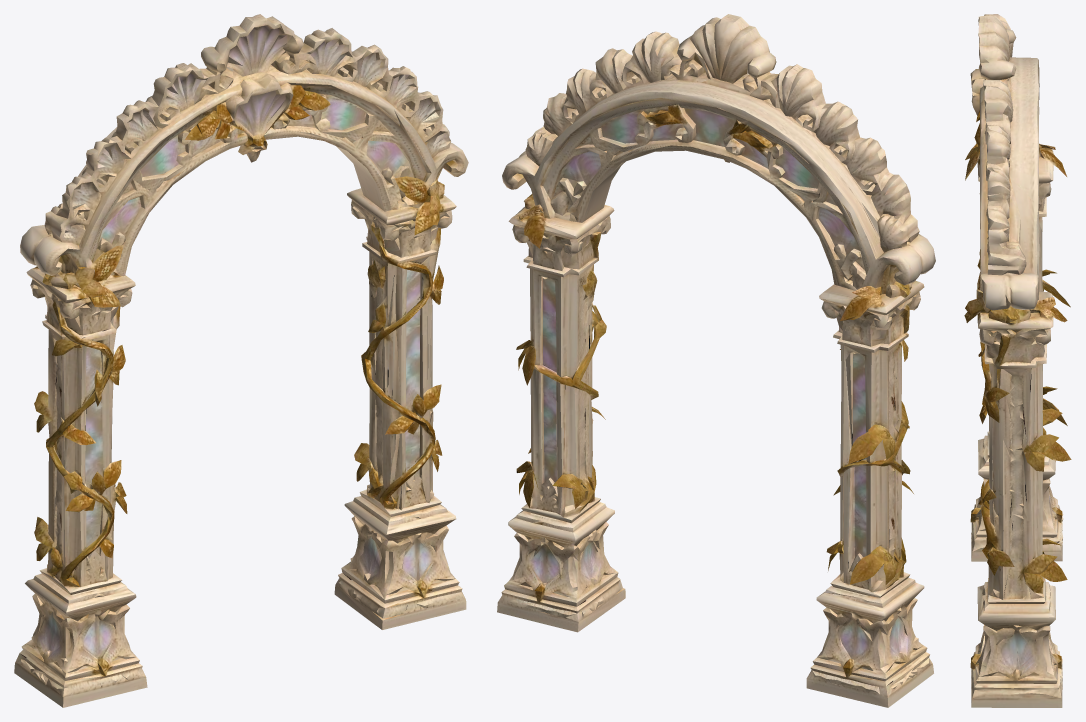
The model's file is P2_gate_ivory_game.glb.
The picture shows the model from 3 angles, left to right: view 1: azimuth 30°, elevation 25°; view 2: azimuth 150°, elevation 25°; view 3: azimuth 270°, elevation 25°; orthographic projection. The views are drawn at different scales.
Visible parts, largest first — view 1: P2_gate_ivory; view 2: P2_gate_ivory; view 3: P2_gate_ivory.
Part boxes in pixels (bbox=[...]): P2_gate_ivory: bbox=[14, 14, 468, 707]; P2_gate_ivory: bbox=[497, 14, 935, 707]; P2_gate_ivory: bbox=[964, 14, 1071, 707].
Bounding box in the file's own units: 2.31 × 3.3 × 0.5364.
Materials: 1 (1 with a texture image).
